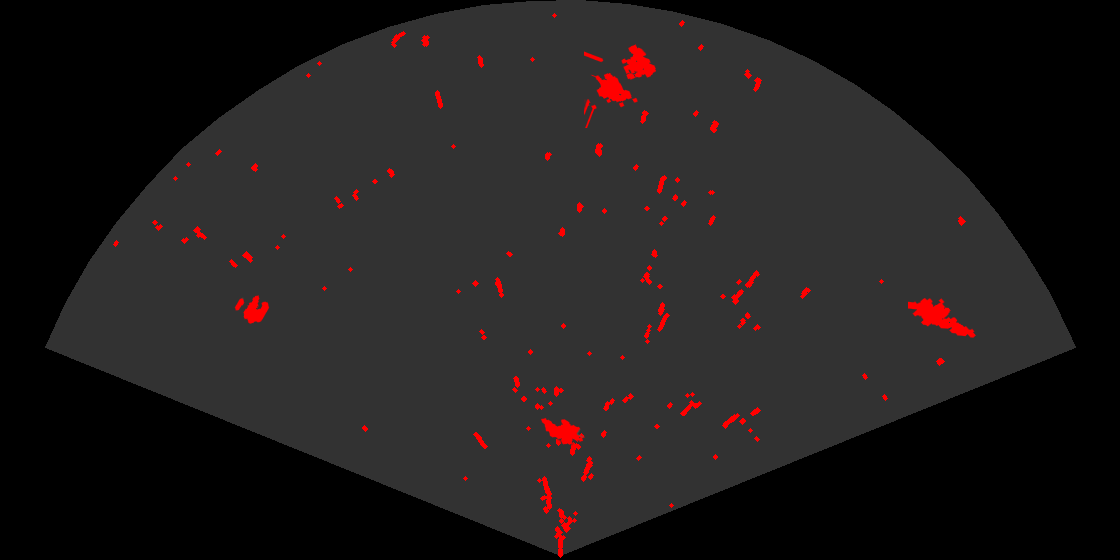AUV: (539, 416, 586, 446)
ball: (233, 294, 271, 325)
cage: (584, 43, 658, 128)
frogman: (908, 297, 977, 339)
